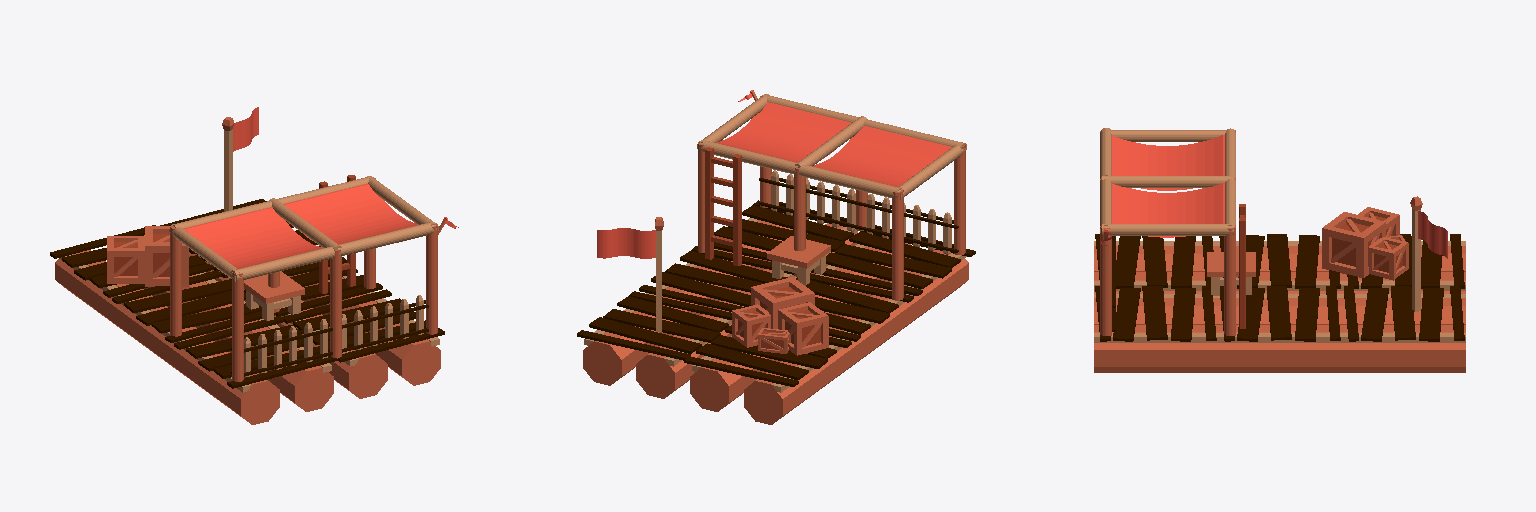
The model's file is Boat6.obj.
The picture shows the model from 3 angles: view 1: azimuth 30°, elevation 25°; view 2: azimuth 150°, elevation 25°; view 3: azimuth 270°, elevation 25°; orthographic projection.
Parts seen in each view (by area): view 1: platform_woodCrooked, trunk, mast_middle, cloth_hanging, gate_spike, detail_crate, furniture_stool, flag_square, detail_ladder; view 2: platform_woodCrooked, trunk, mast_middle, cloth_hanging, detail_crate, gate_spike, detail_ladder, flag_square, furniture_stool, detail_crateLong; view 3: platform_woodCrooked, trunk, mast_middle, cloth_hanging, detail_crate, flag_square, furniture_stool, detail_ladder.
Part boxes in pixels (x1,y1,x2,y2): platform_woodCrooked: (50,199,444,392); trunk: (55,250,440,424); mast_middle: (169,176,438,381); cloth_hanging: (184,184,416,268); gate_spike: (231,295,428,377); detail_crate: (107,226,188,286); furniture_stool: (244,271,304,320); flag_square: (222,107,258,211); detail_ladder: (319,175,355,293); platform_woodCrooked: (577,200,975,392); trunk: (583,213,968,424); mast_middle: (697,94,966,300); cloth_hanging: (717,102,951,186); detail_crate: (732,277,828,355); gate_spike: (759,170,958,254); detail_ladder: (705,147,741,265); flag_square: (597,217,663,331); furniture_stool: (767,236,830,285); detail_crateLong: (758,328,790,353); platform_woodCrooked: (1094,234,1465,342); trunk: (1094,246,1465,372); mast_middle: (1100,128,1235,335); cloth_hanging: (1112,135,1224,237); detail_crate: (1322,207,1408,280); flag_square: (1410,196,1447,311); furniture_stool: (1207,252,1255,295); detail_ladder: (1239,204,1245,328).
Size of the model in its own units: 2.16 by 1.38 by 3.